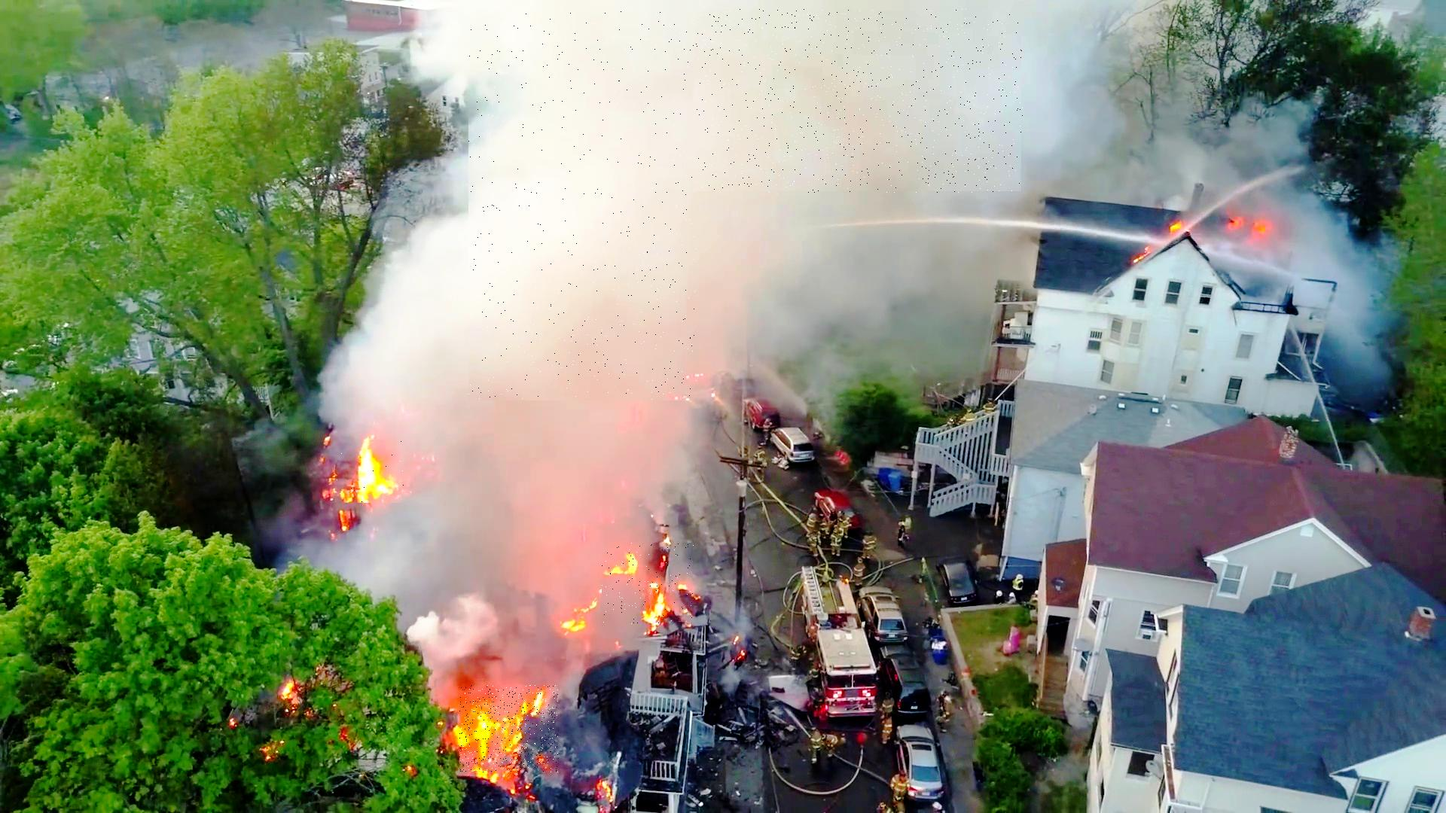fire: (460, 685, 558, 772), (602, 543, 694, 625), (335, 439, 405, 503)
smoke: (471, 10, 1023, 193), (469, 10, 697, 401)
